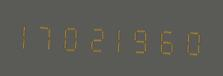nine: (132, 20, 154, 57)
one: (17, 16, 39, 53), (109, 19, 131, 56)
seven: (40, 17, 62, 54)
six: (155, 21, 177, 58)
two: (86, 19, 108, 55)
zero: (63, 18, 85, 55), (178, 22, 200, 59)
